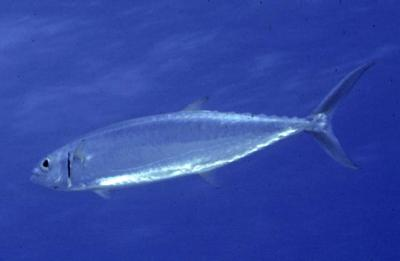Scombridae -Tunas-: (26, 56, 382, 201)
